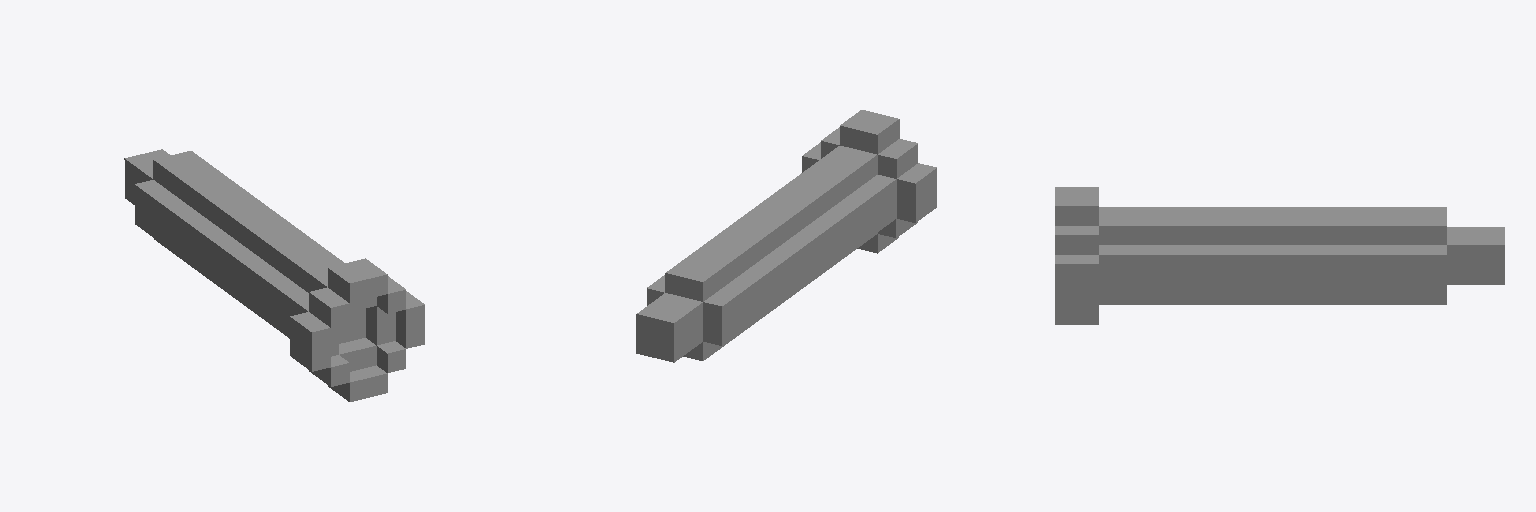
Rendered from stone_axle.obj.
The picture shows the model from 3 angles: view 1: azimuth 30°, elevation 25°; view 2: azimuth 150°, elevation 25°; view 3: azimuth 270°, elevation 25°; orthographic projection.
Visible parts, largest first — view 1: Cube.006_Cube.007; view 2: Cube.006_Cube.007; view 3: Cube.006_Cube.007.
Part boxes in pixels (left/top/right/bottom): Cube.006_Cube.007: left=124, top=149, right=424, bottom=401; Cube.006_Cube.007: left=636, top=110, right=936, bottom=362; Cube.006_Cube.007: left=1055, top=187, right=1504, bottom=324.
Size of the model in its own units: 0.375 by 0.375 by 1.29.